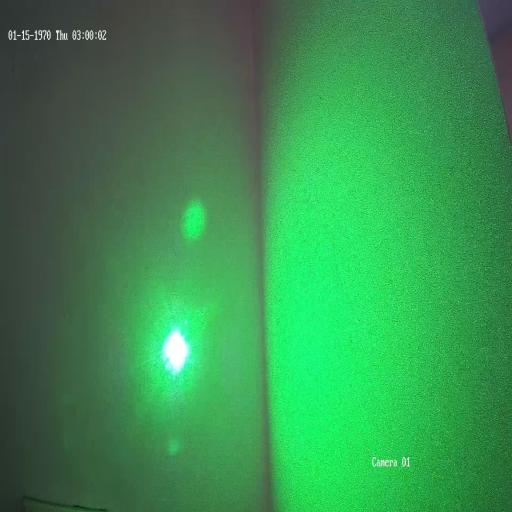laser: (153, 308, 194, 389)
